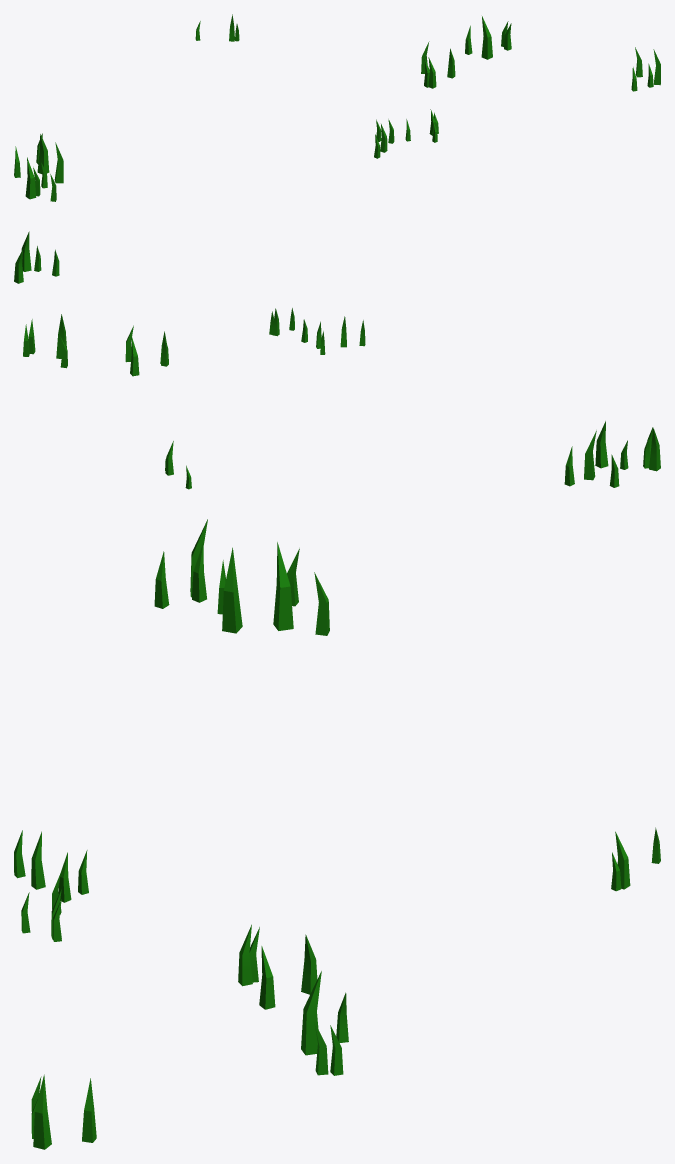
Rendered from Grass Cluster 5.fbx.
The picture shows the model from 3 angles, top to bottom: view 1: azimuth 30°, elevation 25°; view 2: azimuth 150°, elevation 25°; view 3: azimuth 270°, elevation 25°; orthographic projection. The views are drawn at different scales.
Visible parts, largest first — view 1: Grass.103, Grass.114, Grass.107; view 2: Grass.106; view 3: Grass.114, Grass.106, Grass.103.
Boxes of the visible parts, <box> form: Grass.103: <box>481,16,492,59</box>; Grass.114: <box>37,134,49,173</box>; Grass.107: <box>25,157,36,199</box>; Grass.106: <box>595,421,608,468</box>; Grass.114: <box>273,542,293,630</box>; Grass.106: <box>222,547,242,633</box>; Grass.103: <box>301,971,321,1055</box>.
Size of the model in its own units: 8.02 by 0.544 by 3.92.
